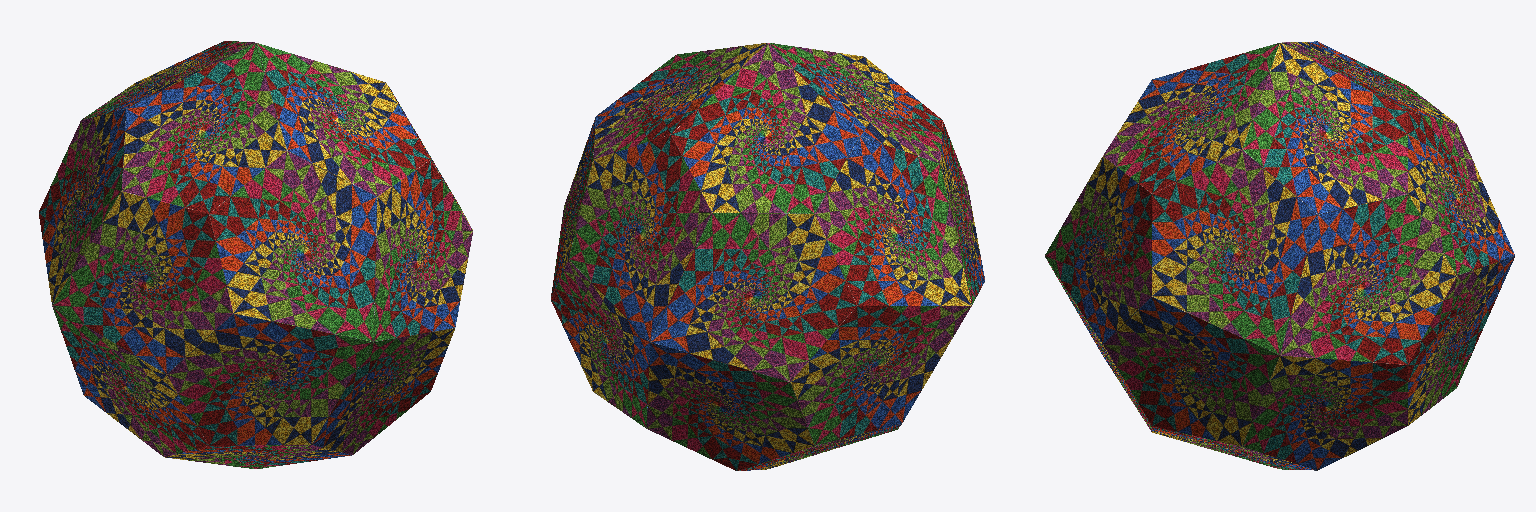
3 renders of one model, left to right at view 1: azimuth 30°, elevation 25°; view 2: azimuth 150°, elevation 25°; view 3: azimuth 270°, elevation 25°, orthographic.
Size of the model in its own units: 2.72 by 2.72 by 2.72.
1 materials, 1 textured.